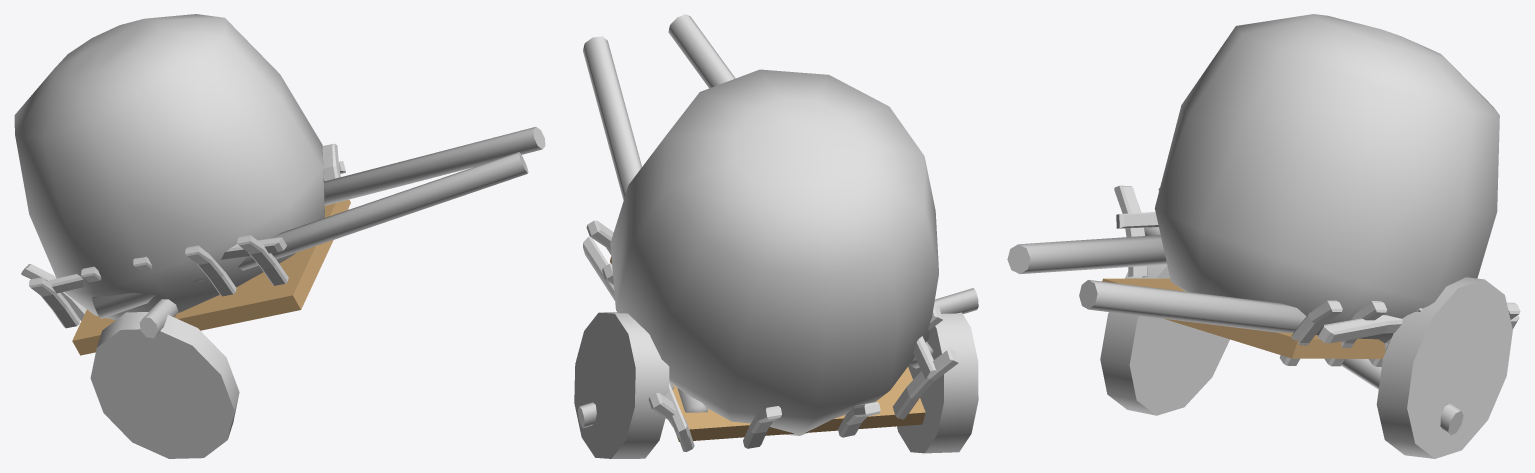
File: cart.fbx
The picture shows the model from 3 angles, left to right: view 1: azimuth 30°, elevation 25°; view 2: azimuth 150°, elevation 25°; view 3: azimuth 270°, elevation 25°; orthographic projection. The views are drawn at different scales.
Visible parts, largest first — view 1: cart, Cylinder.004, Cylinder.002, Cube.010, Cube, Cube.009, Cylinder.003, Cube.008; view 2: cart, Cylinder.004, Cylinder.002, Cube.010, Cube, Cube.009, Cube.008, Cylinder.003; view 3: cart, Cylinder.004, Cylinder.002, Cube.010, Cube, Cube.009, Cylinder.003.
Boxes of the visible parts, x1=… form: cart: x1=14, y1=14, x2=324, y2=319; Cylinder.004: x1=90, y1=312, x2=239, y2=458; Cylinder.002: x1=92, y1=126, x2=545, y2=318; Cube.010: x1=72, y1=199, x2=350, y2=355; Cube: x1=29, y1=143, x2=348, y2=328; Cube.009: x1=47, y1=161, x2=345, y2=293; Cylinder.003: x1=139, y1=299, x2=178, y2=338; Cube.008: x1=21, y1=264, x2=86, y2=320; cart: x1=610, y1=69, x2=938, y2=435; Cylinder.004: x1=574, y1=312, x2=978, y2=458; Cylinder.002: x1=583, y1=14, x2=933, y2=412; Cube.010: x1=610, y1=257, x2=925, y2=441; Cube: x1=586, y1=220, x2=958, y2=451; Cube.009: x1=583, y1=237, x2=936, y2=440; Cube.008: x1=743, y1=402, x2=880, y2=448; Cylinder.003: x1=578, y1=288, x2=978, y2=428; cart: x1=1154, y1=14, x2=1499, y2=343; Cylinder.004: x1=1100, y1=264, x2=1512, y2=458; Cylinder.002: x1=1007, y1=235, x2=1306, y2=332; Cube.010: x1=1102, y1=278, x2=1385, y2=358; Cube: x1=1114, y1=185, x2=1520, y2=366; Cube.009: x1=1116, y1=212, x2=1519, y2=343; Cylinder.003: x1=1144, y1=227, x2=1463, y2=435.
Bounding box in the file's own units: 546 × 435 × 490.
